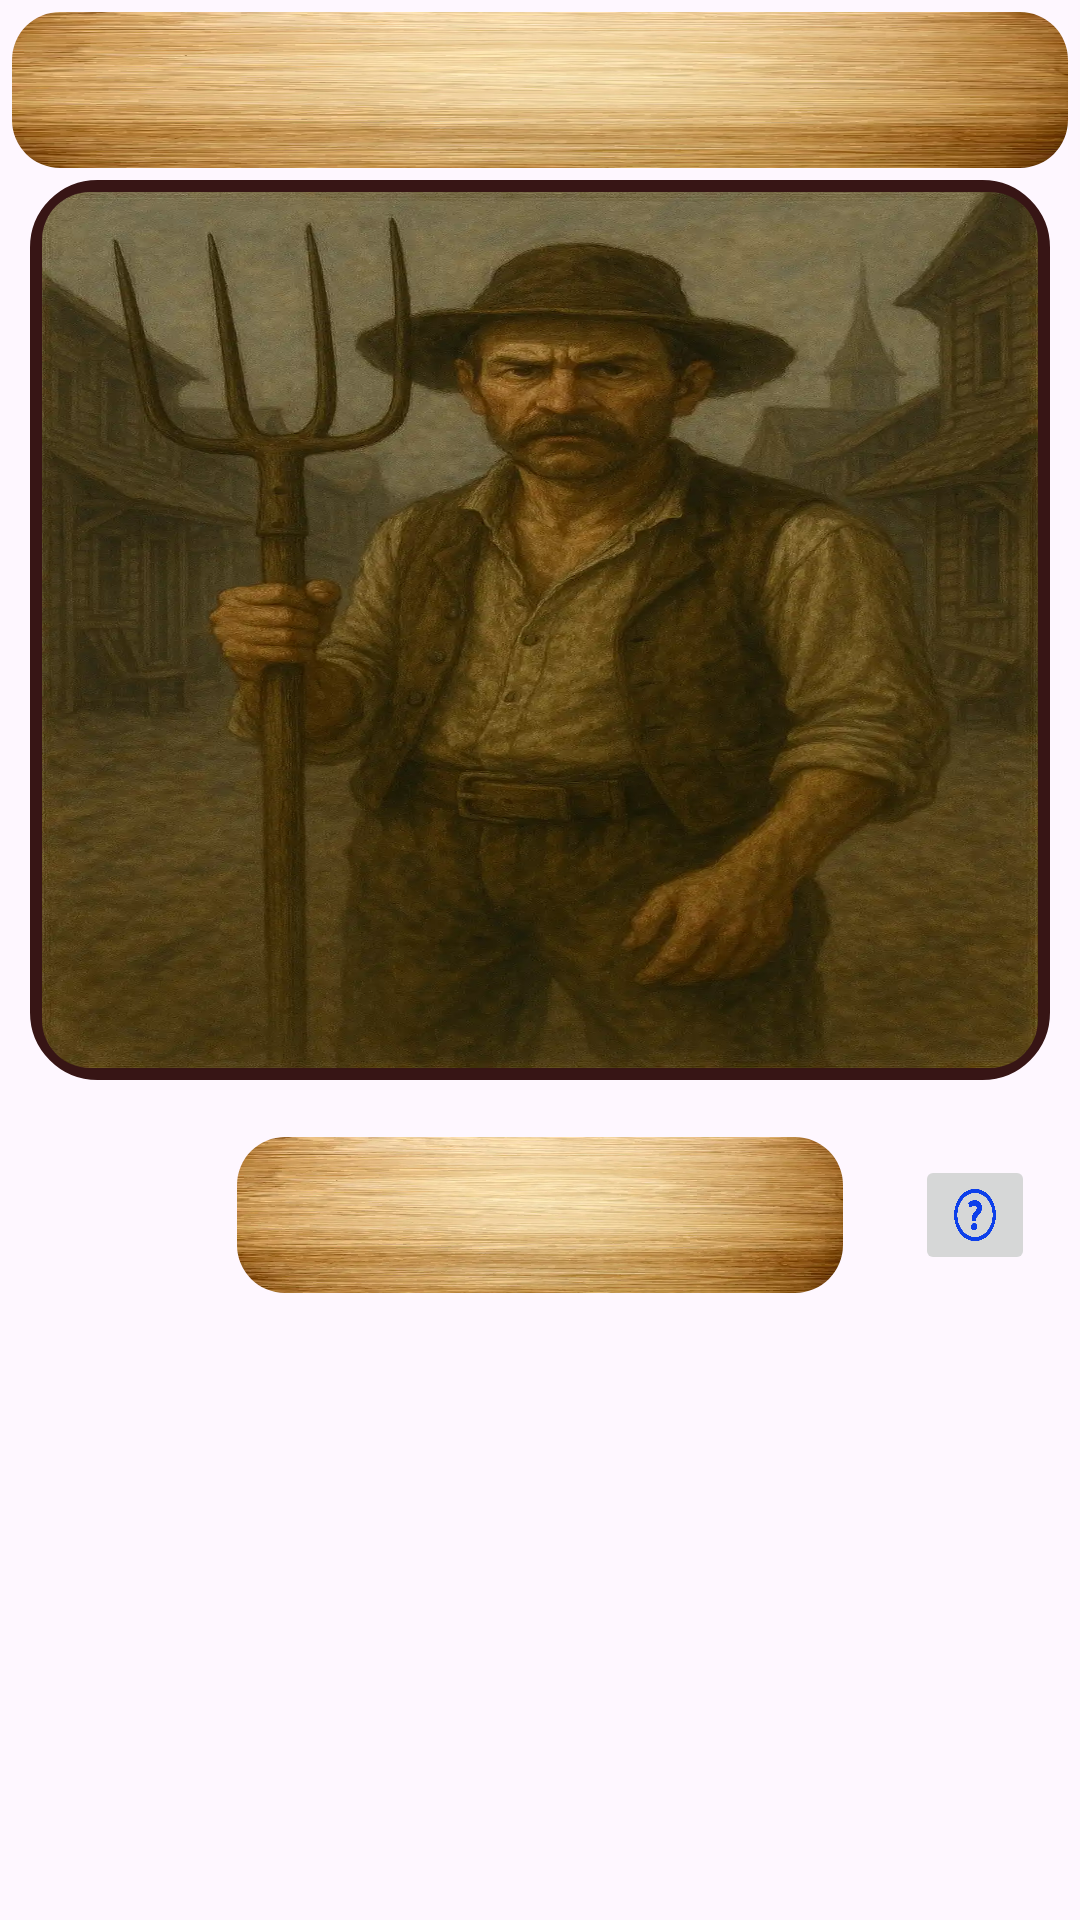

Where to tap for icons on this 1080×1920 app screen, as point (x, y):
Role Description: point (975, 1215)
